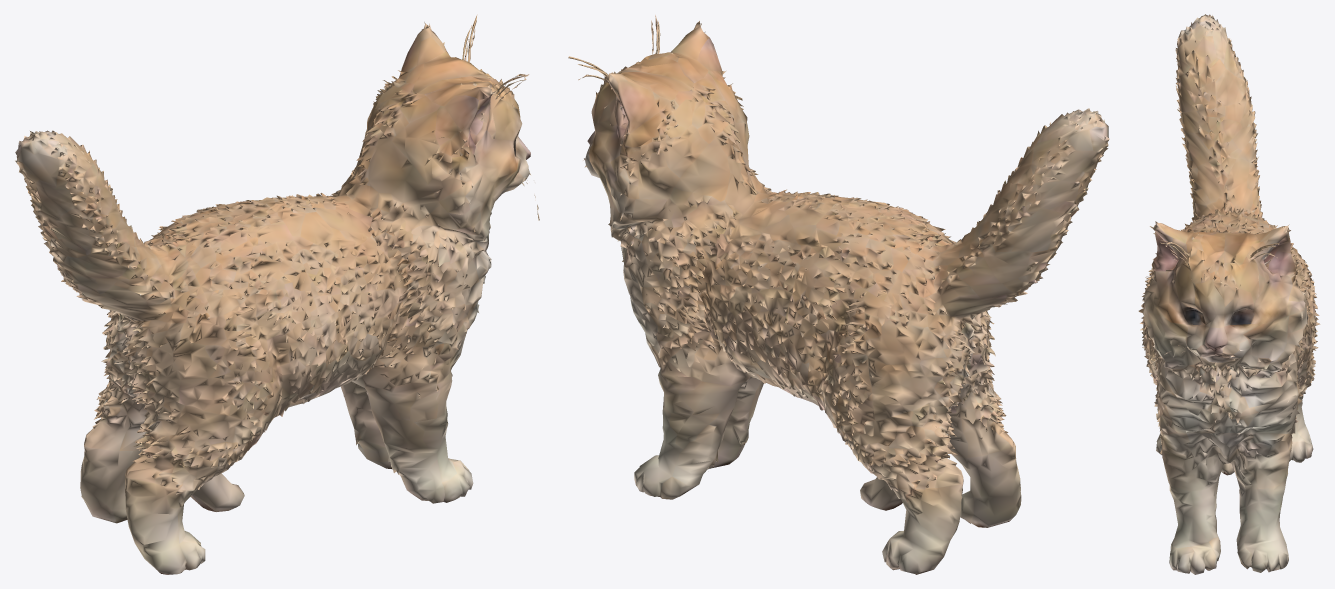
Rendered from PRINCEKIT.glb.
3 renders of one model, left to right at view 1: azimuth 30°, elevation 25°; view 2: azimuth 150°, elevation 25°; view 3: azimuth 270°, elevation 25°, orthographic. The views are drawn at different scales.
Visible parts, largest first — view 1: tripo_node_c2dc3932-608c-4f9a-9d8b-54d1a516247c; view 2: tripo_node_c2dc3932-608c-4f9a-9d8b-54d1a516247c; view 3: tripo_node_c2dc3932-608c-4f9a-9d8b-54d1a516247c.
Boxes of the visible parts, x1=… form: tripo_node_c2dc3932-608c-4f9a-9d8b-54d1a516247c: x1=15, y1=14, x2=539, y2=574; tripo_node_c2dc3932-608c-4f9a-9d8b-54d1a516247c: x1=568, y1=15, x2=1109, y2=574; tripo_node_c2dc3932-608c-4f9a-9d8b-54d1a516247c: x1=1138, y1=14, x2=1320, y2=574.
Size of the model in its own units: 1.19 by 0.9969 by 0.425.
1 material, 1 textured.
